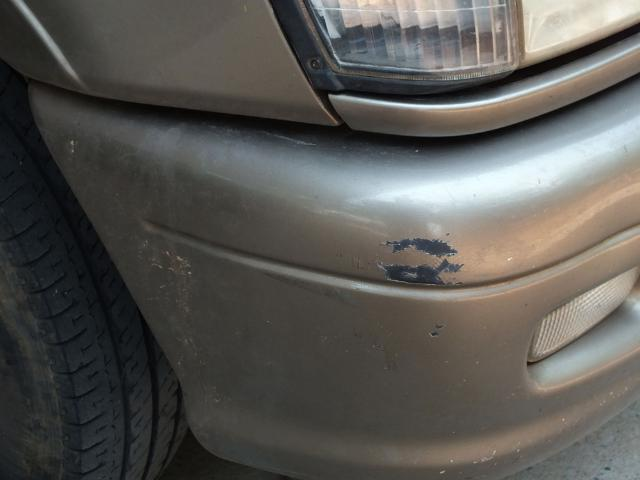scratch: (374, 236, 463, 286)
